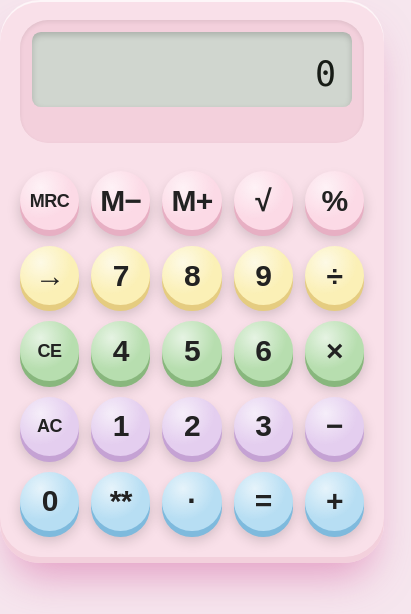
<Calculator /> › shows an error for invalid expressions
Click the button "5".
click(192, 351)  # box [162,321,222,381]
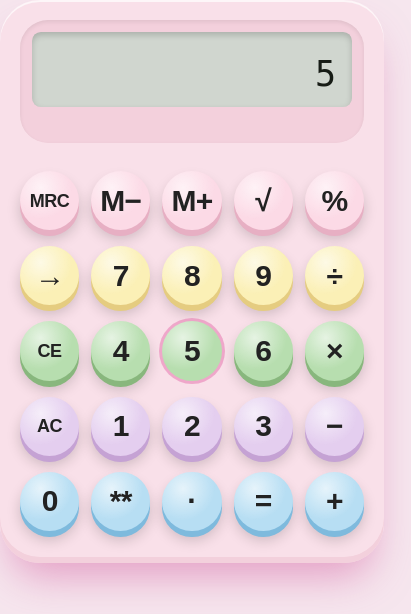
Click the button named "Divide".
click(334, 276)  # box [305,246,364,305]
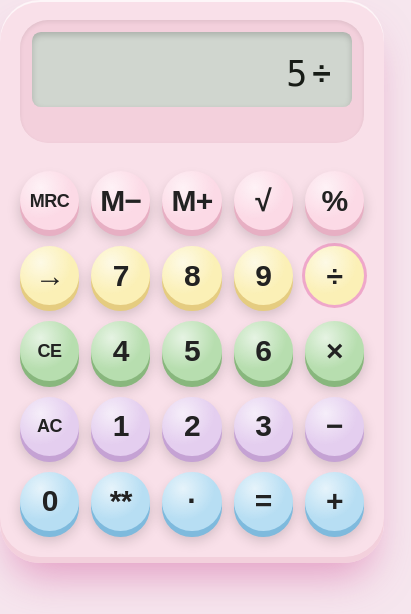
Click the button "0".
click(50, 501)  # box [20,472,79,531]
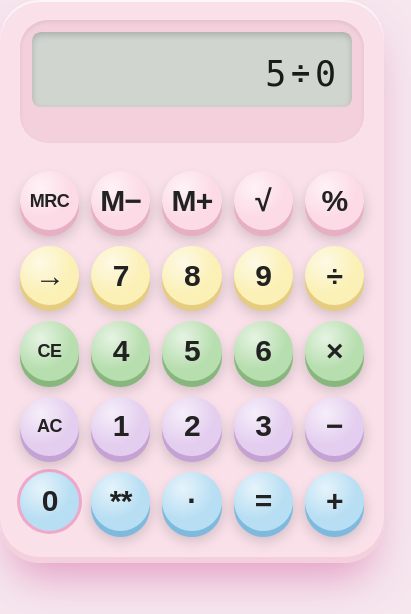
Click the button named "Equals".
click(263, 501)  # box [234,472,293,531]
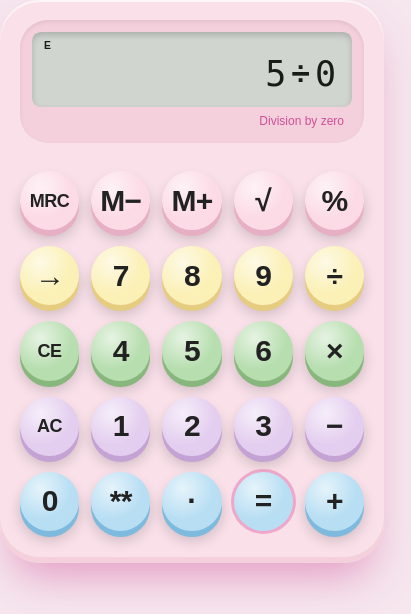
Expected: the message reads "Division by zero", [259,114,344,128]
